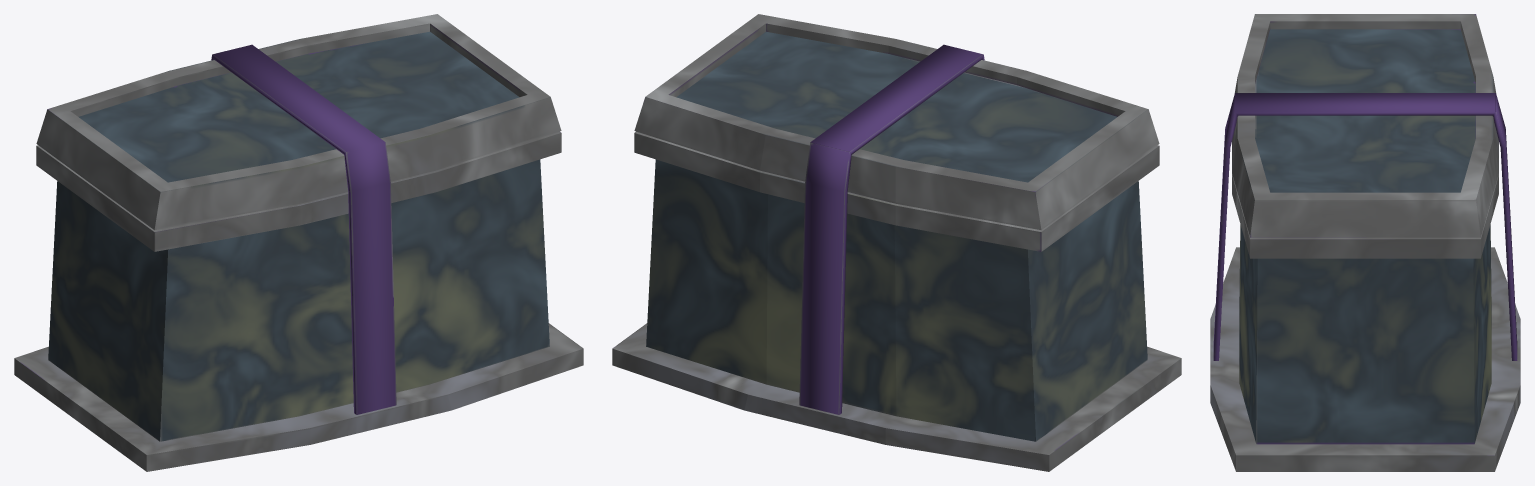
Rendered from marbled_box.glb.
3 views of the same model, side by side, from view 1: azimuth 30°, elevation 25°; view 2: azimuth 150°, elevation 25°; view 3: azimuth 270°, elevation 25° (orthographic). The views are drawn at different scales.
Parts seen in each view (by area): view 1: Baked; view 2: Baked; view 3: Baked.
Part boxes in pixels (left/top/right/bottom): Baked: left=14, top=14, right=583, bottom=471; Baked: left=612, top=14, right=1181, bottom=471; Baked: left=1210, top=14, right=1520, bottom=471.
Bounding box in the file's own units: 1.02 × 0.6078 × 0.6444.
Materials: 1 (1 with a texture image).
